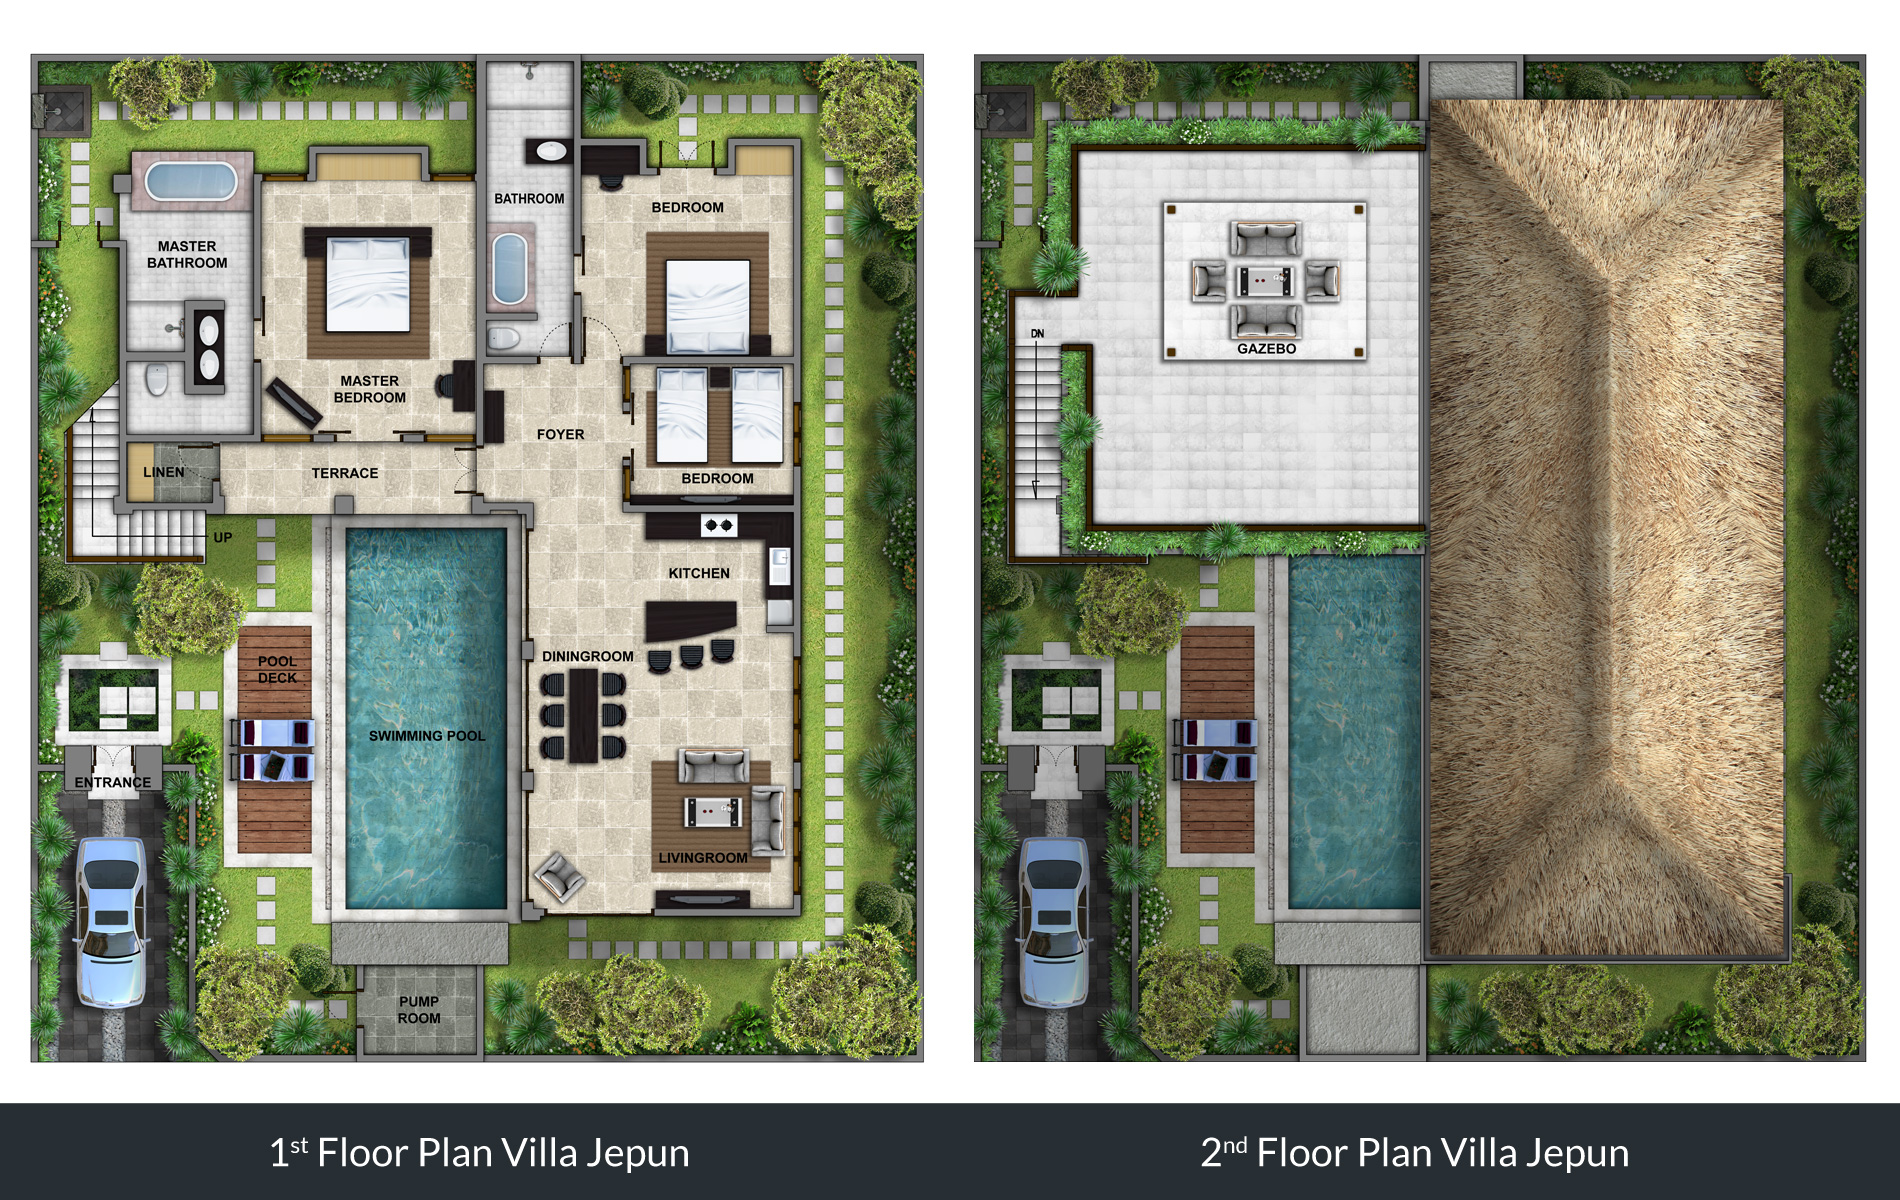door: (582, 312, 620, 361), (538, 321, 572, 359), (450, 447, 477, 495)
